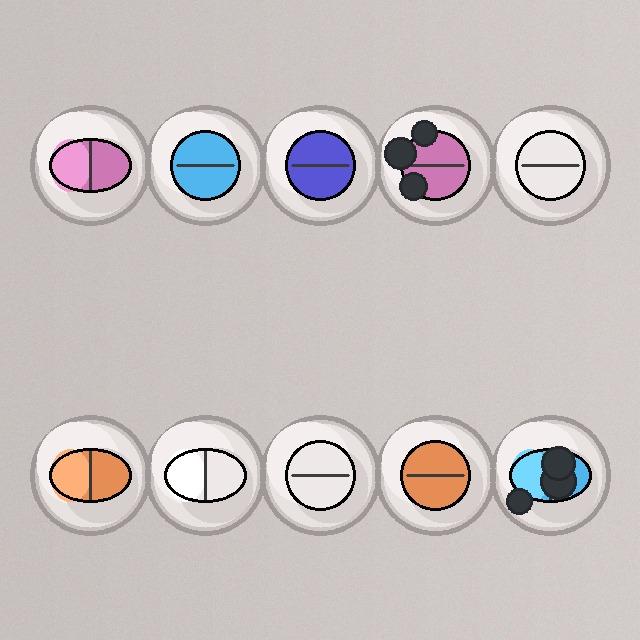stain: (373, 103, 497, 227), (488, 413, 612, 537)
